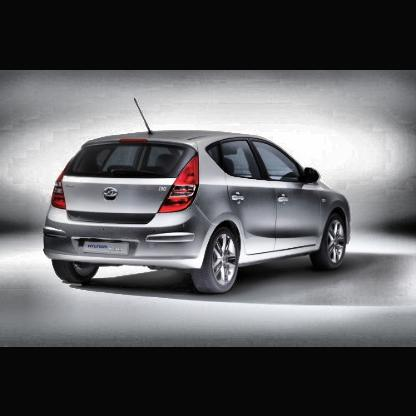Hyundai Elantra Touring Hatchback 2012: (44, 96, 352, 299)
